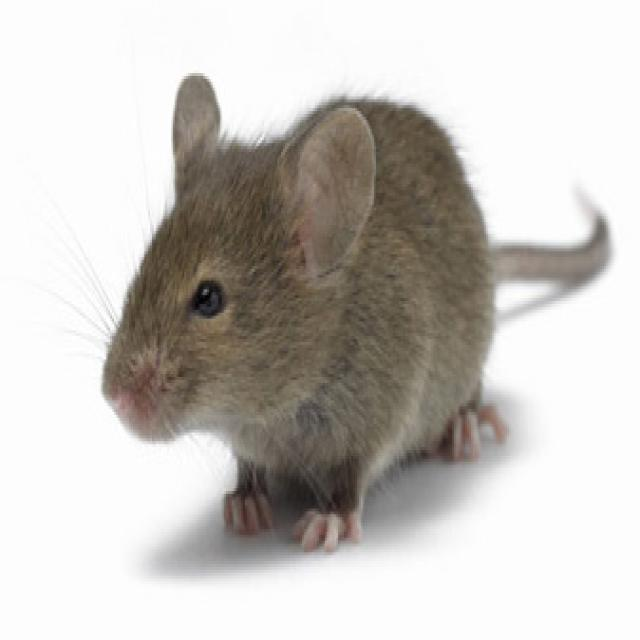rat: (62, 59, 622, 574)
